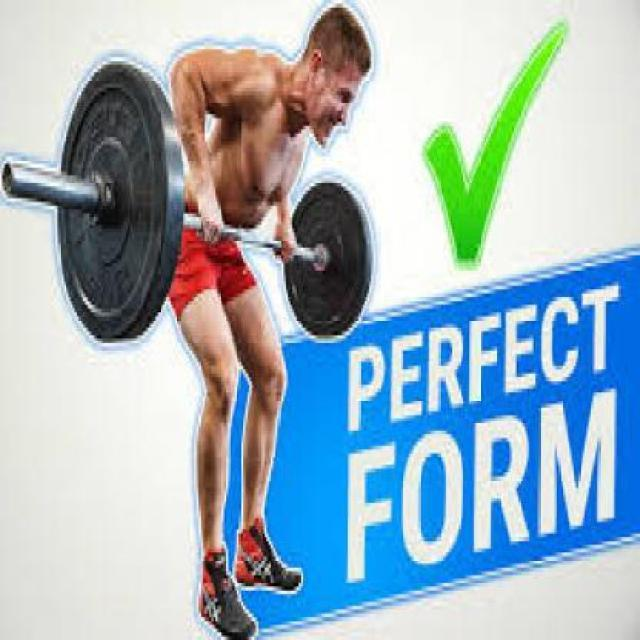barbell: (37, 51, 194, 356)
